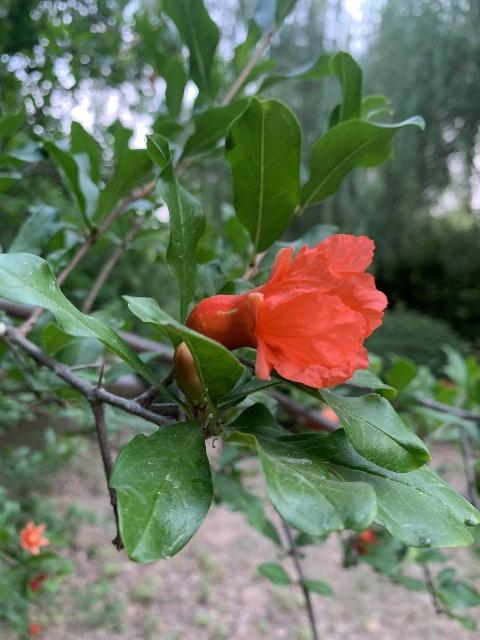bud: (173, 341, 204, 400)
flower: (185, 238, 390, 393), (18, 520, 49, 555)
